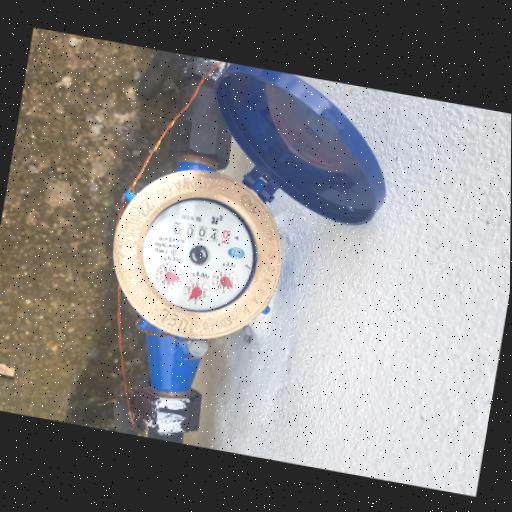0: (196, 225, 208, 241), (219, 228, 231, 244), (171, 221, 183, 236), (185, 223, 196, 238)
4: (207, 227, 218, 242)
border_water_meter_number: (169, 219, 233, 247)
